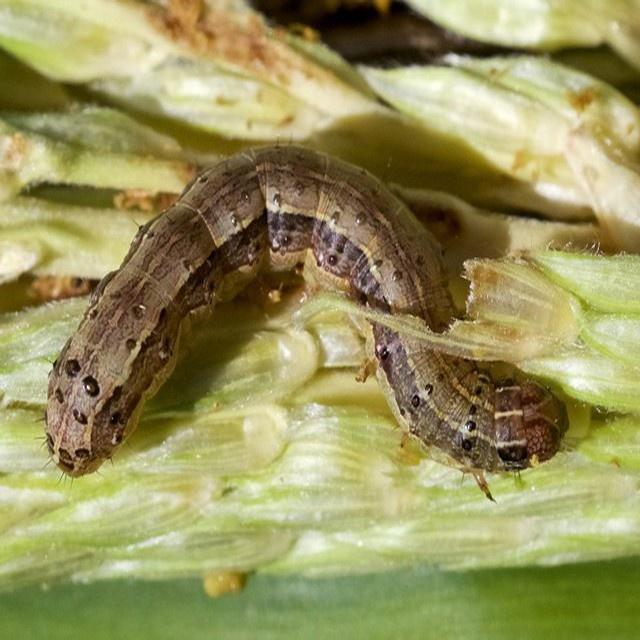gusano_cogollero: (46, 135, 568, 480)
